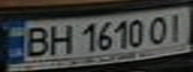0: (127, 16, 148, 47)
1: (75, 20, 100, 53), (112, 18, 130, 50)
6: (93, 18, 115, 52)
B: (18, 24, 54, 57)
H: (45, 21, 75, 55)
I: (163, 10, 190, 43)
O: (145, 12, 172, 45)
